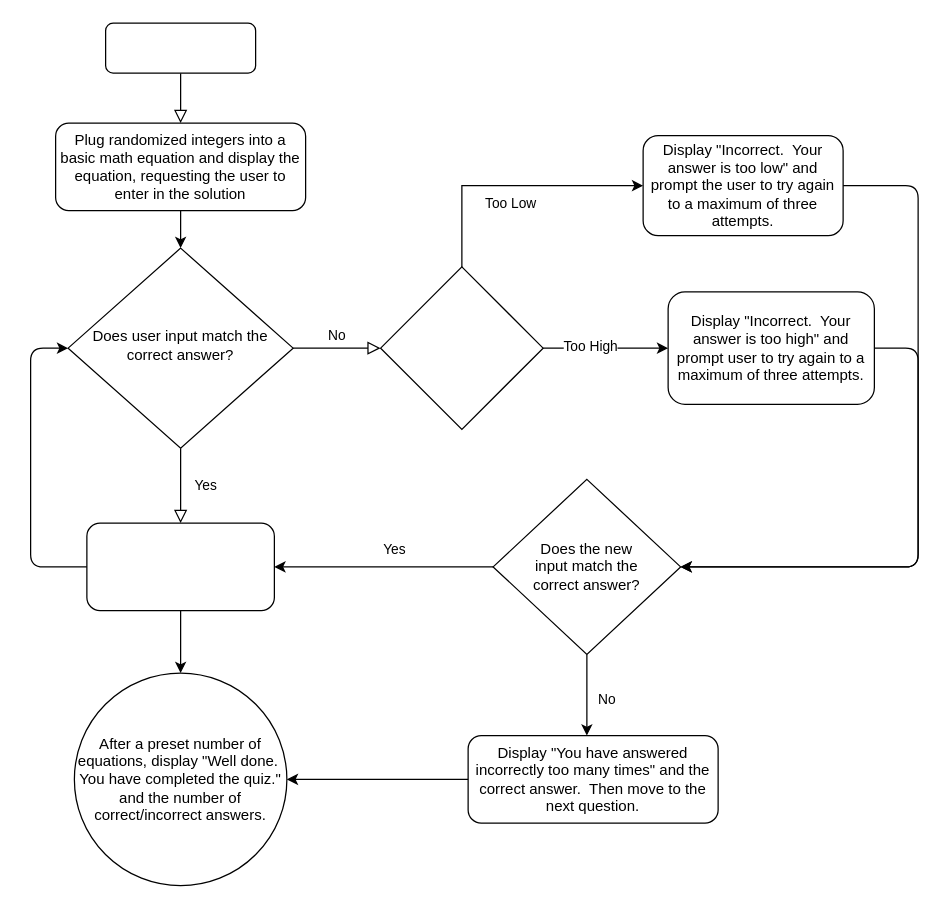
This 950x908 diagram has some shape labels left out. Each missing label, with the box of its shape:
Create random integers between 0 and upper limit: (104, 22, 256, 73)
Display "Correct Next Question" Then display the next randomized equation: (86, 522, 274, 611)
Is the value too high or too low?: (379, 266, 543, 429)
